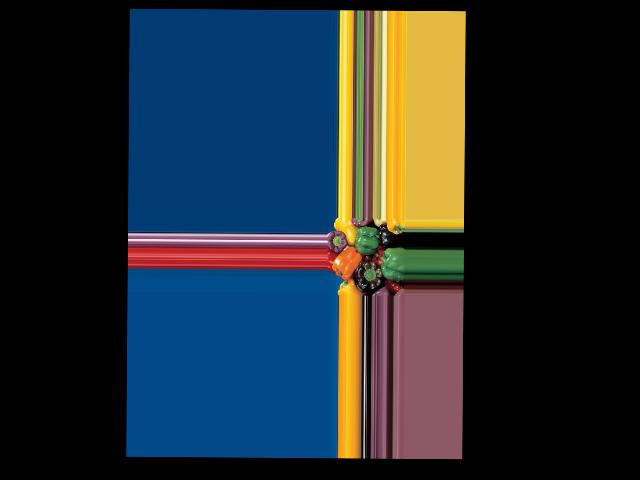bell_pepper: (383, 248, 405, 282)
